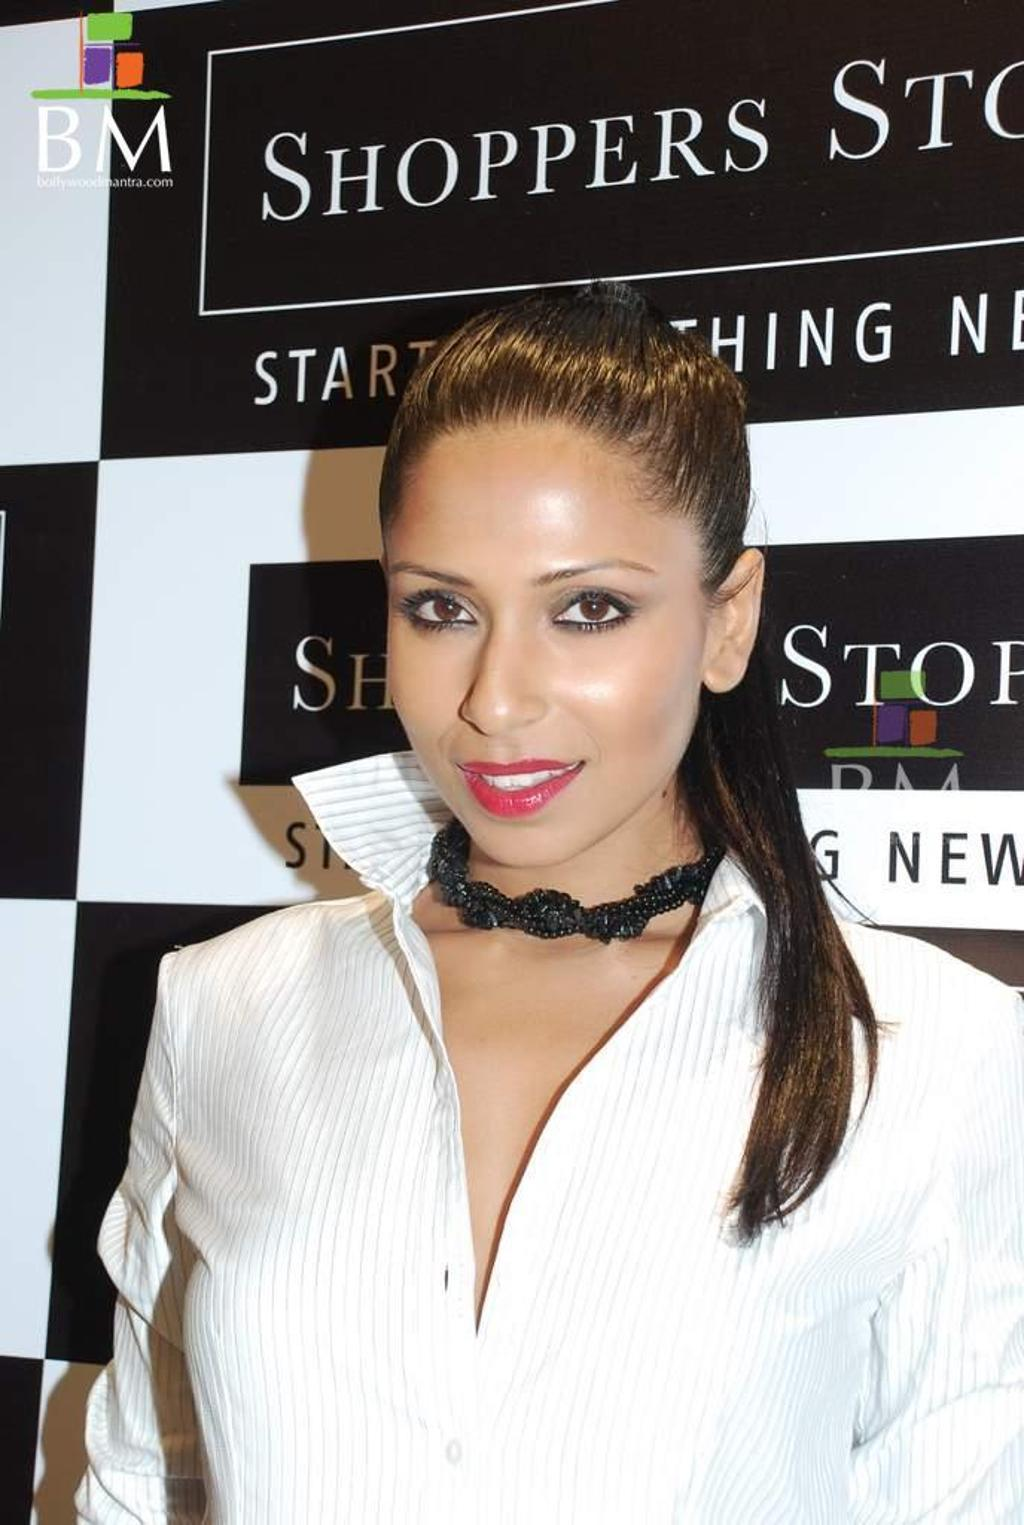face: (385, 483, 704, 864)
